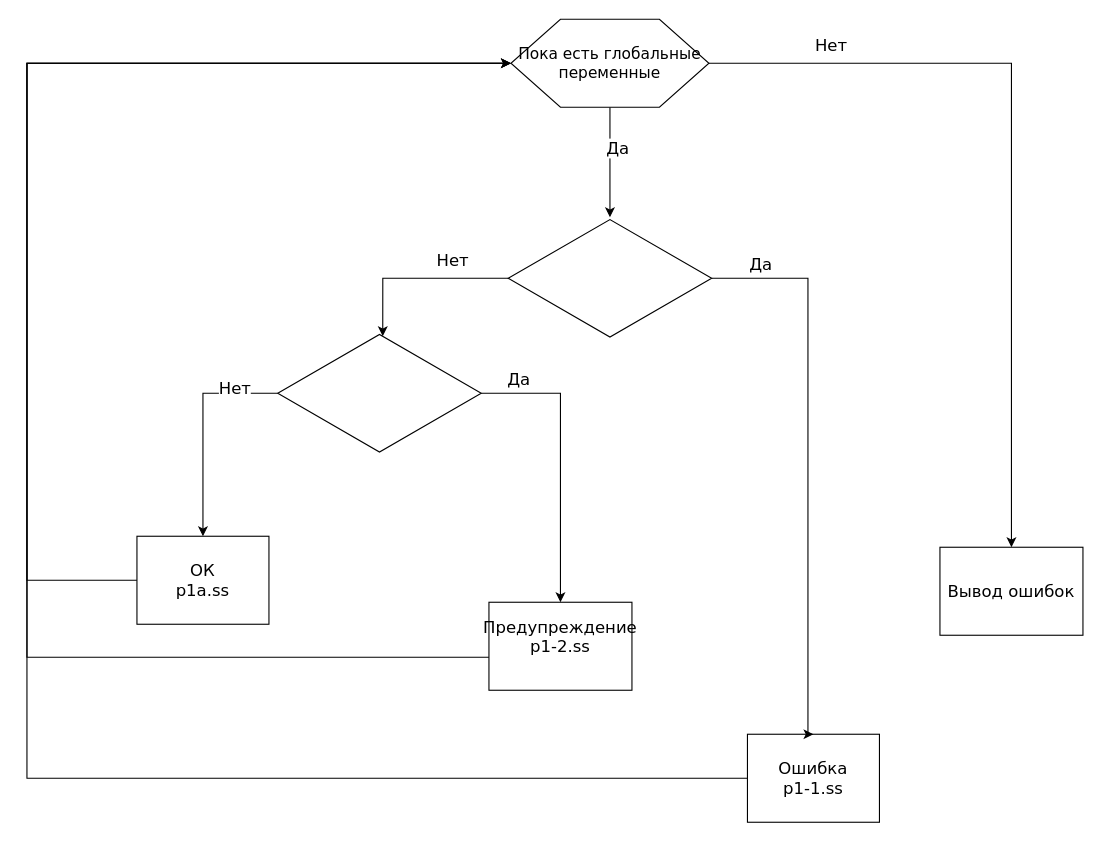
The diagram is 1102 pixels wide and 842 high, and some of its shapes have lost their labels. The centre of each missing label's shape, as x and y in pixels:
"Переменная использована и не объявлена" belongs at [609,277].
"Переменная объявлена, не использованная, не встроенная" belongs at [379,392].
